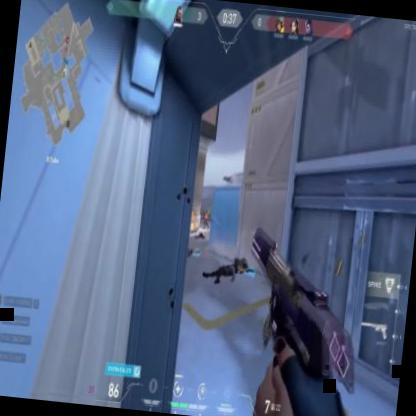enemy: (201, 210, 210, 228), (204, 210, 208, 214)
